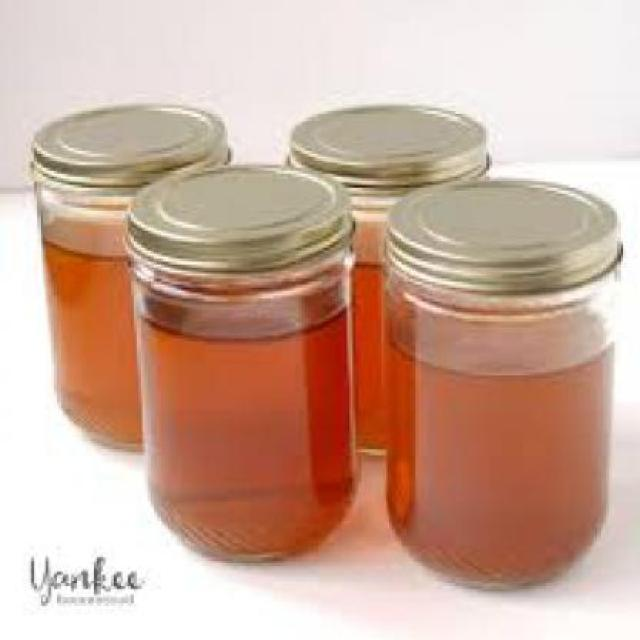GLASS: (119, 228, 350, 563), (381, 262, 608, 586), (29, 165, 140, 447), (344, 191, 398, 458)
METAL: (378, 170, 618, 296), (119, 156, 353, 270), (282, 97, 489, 205), (28, 100, 228, 186)
